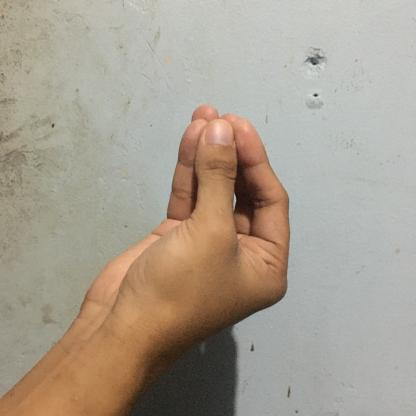food: (79, 98, 307, 361)
